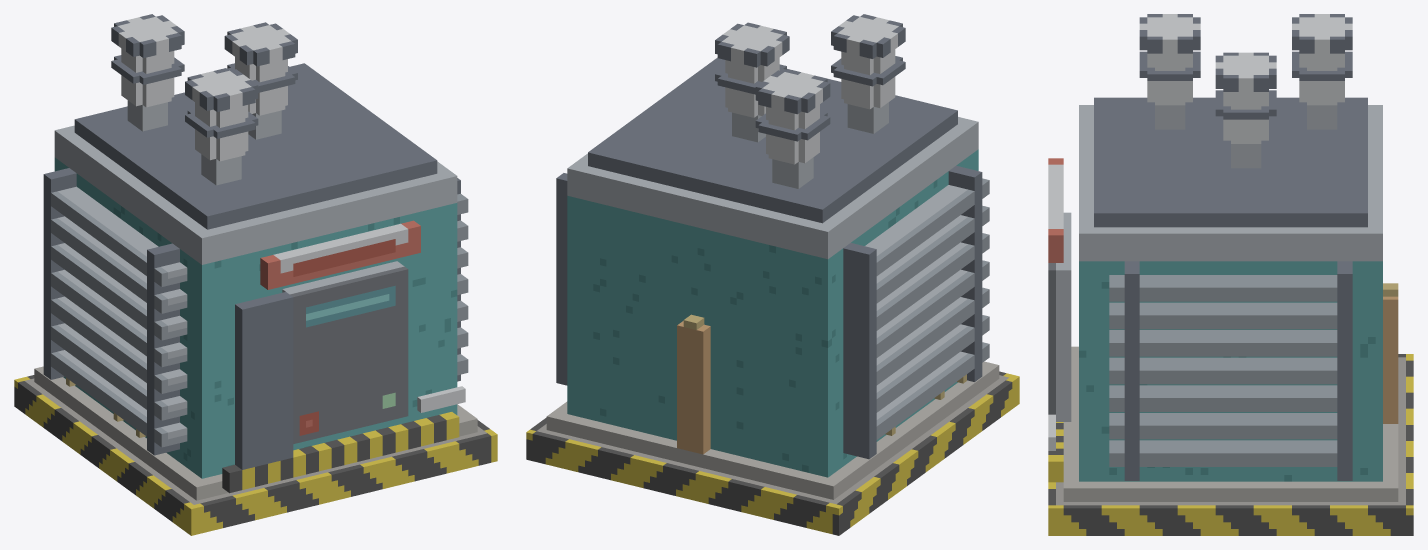
File: power_transformer.glb
3 views of the same model, side by side, from view 1: azimuth 30°, elevation 25°; view 2: azimuth 150°, elevation 25°; view 3: azimuth 270°, elevation 25° (orthographic). The views are drawn at different scales.
Visible parts, largest first — view 1: power_transformer; view 2: power_transformer; view 3: power_transformer.
Part boxes in pixels (left/top/right/bottom): power_transformer: left=14, top=14, right=497, bottom=535; power_transformer: left=526, top=14, right=1019, bottom=535; power_transformer: left=1048, top=14, right=1413, bottom=535.
Size of the model in its own units: 1.5 by 1.81 by 1.5.
